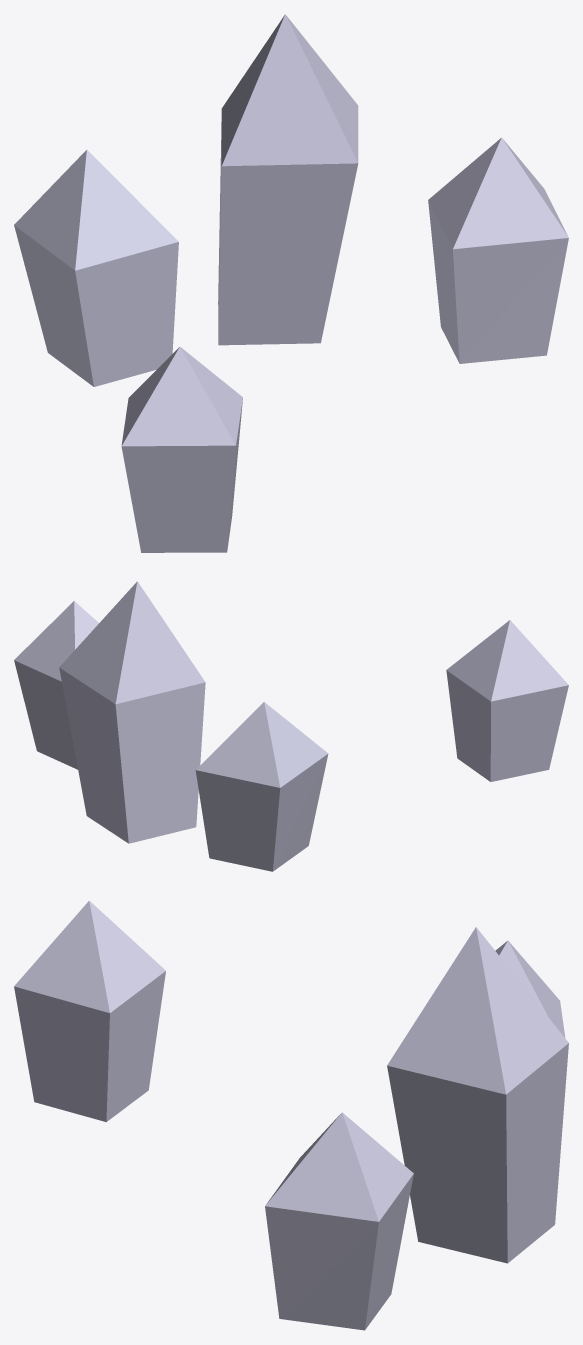
File: crystal_ordo_3.obj
3 views of the same model, one above another, from view 1: azimuth 30°, elevation 25°; view 2: azimuth 150°, elevation 25°; view 3: azimuth 270°, elevation 25° (orthographic). The views are drawn at different scales.
Parts seen in each view (by area): view 1: s016, s017, s014, s015; view 2: s016, s017, s015, s014; view 3: s016, s015, s014, s017.
Part boxes in pixels (left/top/right/bottom): s016: left=218, top=14, right=358, bottom=345; s017: left=14, top=150, right=178, bottom=386; s014: left=428, top=137, right=568, bottom=363; s015: left=121, top=347, right=242, bottom=552; s016: left=59, top=581, right=205, bottom=843; s017: left=195, top=702, right=328, bottom=871; s015: left=446, top=620, right=568, bottom=781; s014: left=14, top=601, right=98, bottom=769; s016: left=387, top=927, right=568, bottom=1263; s015: left=14, top=900, right=165, bottom=1122; s014: left=265, top=1112, right=413, bottom=1330; s017: left=495, top=940, right=565, bottom=1037.
Size of the model in its own units: 0.8279 by 0.4254 by 0.6865.
